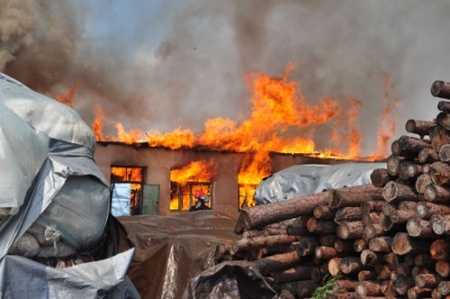fire: (90, 59, 414, 210)
